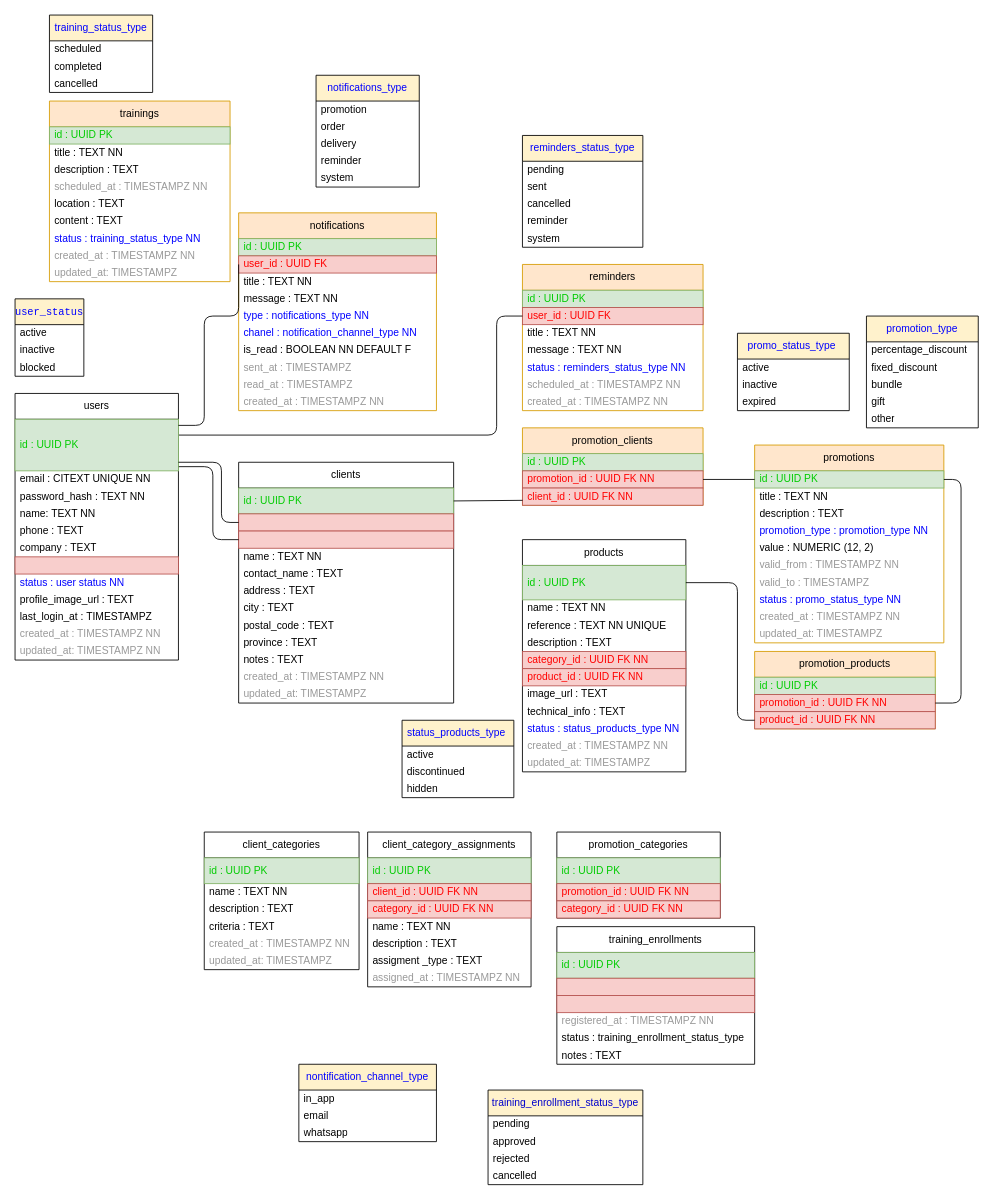
The diagram is 993 pixels wide and 1200 high, and some of its shapes have lost their labels. The shapes that lost their labels are listed below. From the top down, each one's centre as x and y in pixels, then its label:
the point at 346,522: linked_user_id : UUID FK NN UNIQUE
the point at 346,539: assigned_commercial_id : UUID FK NN
the point at 96,565: role_id : SMALLINT NN FK
the point at 655,986: training_id : UUID FK NN
the point at 655,1004: user_id : UUID FK NN
